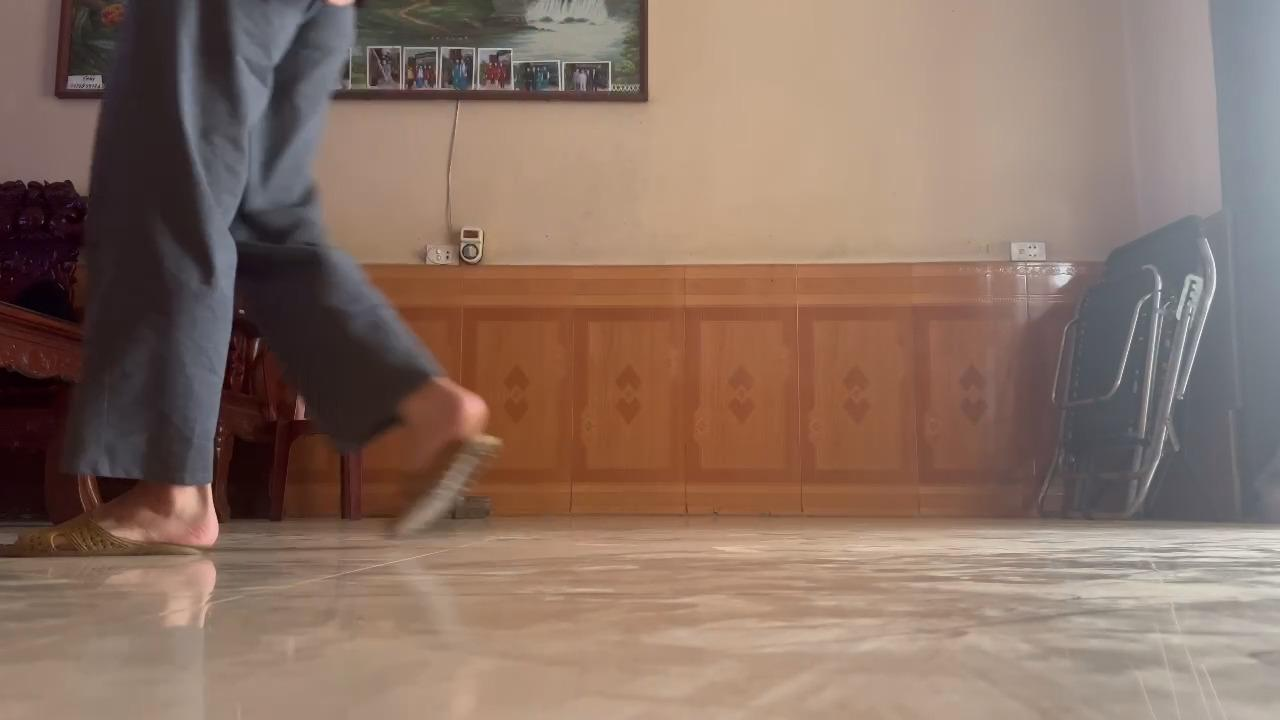no-boot: (363, 379, 516, 545), (0, 490, 229, 567)
